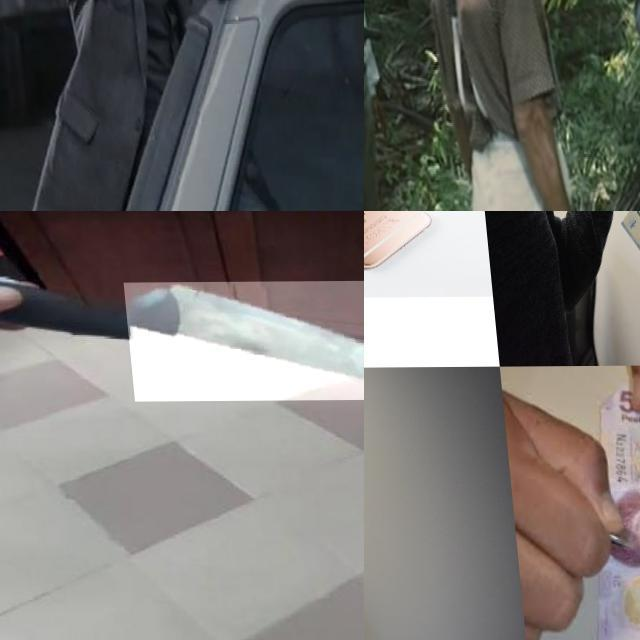-: (118, 280, 364, 401)
gun-knife-thesis - v11 Yolov5 augmented: (0, 0, 52, 41), (364, 0, 393, 66)
